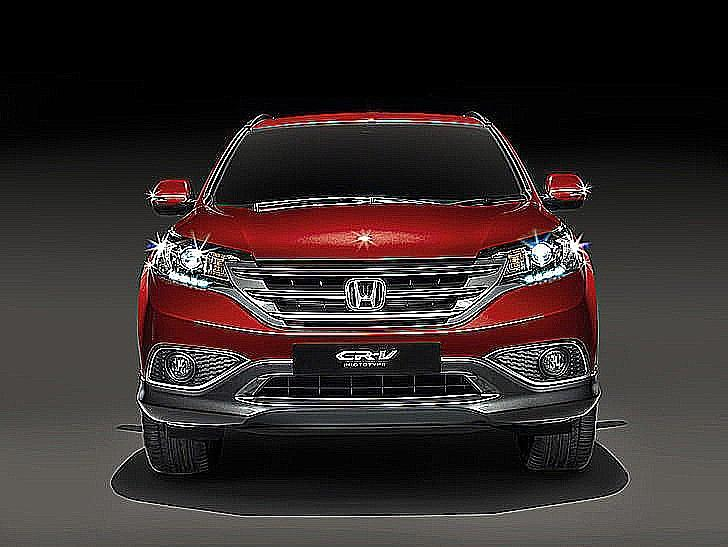Car hood: (170, 199, 565, 264)
Front bumper: (127, 291, 615, 440)
Headlight - -L-: (490, 221, 591, 295)
Headlight - -R-: (143, 225, 245, 295)
Side mirror - -L-: (530, 167, 592, 214)
Side mirror - -R-: (145, 173, 204, 219)
